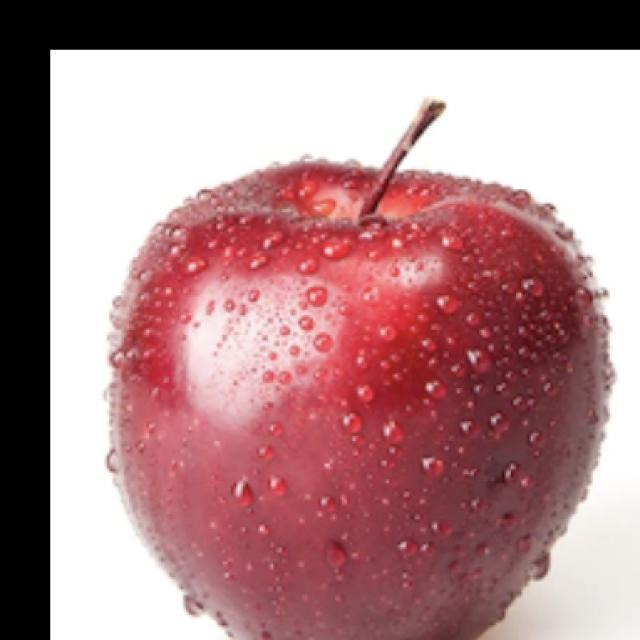Fresh Apple: (102, 156, 612, 640)
